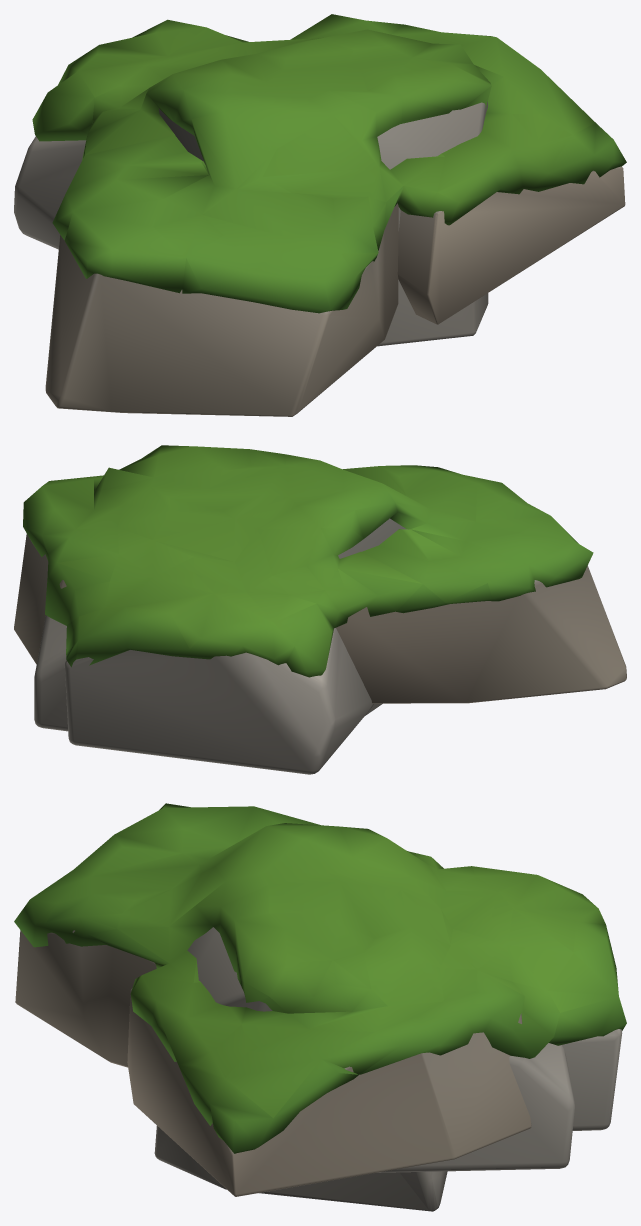
File: glade_outcrop_lod1.glb
The picture shows the model from 3 angles, top to bottom: view 1: azimuth 30°, elevation 25°; view 2: azimuth 150°, elevation 25°; view 3: azimuth 270°, elevation 25°; orthographic projection. The views are drawn at different scales.
Parts seen in each view (by area): view 1: moss.001, glade_outcrop.001; view 2: moss.001, glade_outcrop.001; view 3: moss.001, glade_outcrop.001.
Part boxes in pixels (box(x1,y1,x2,y2)): moss.001: box(32, 14, 626, 313); glade_outcrop.001: box(14, 101, 625, 416); moss.001: box(23, 445, 593, 677); glade_outcrop.001: box(14, 518, 626, 774); moss.001: box(14, 803, 626, 1153); glade_outcrop.001: box(15, 927, 622, 1211).
Bounding box in the file's own units: 9.34 × 3.73 × 8.06.
